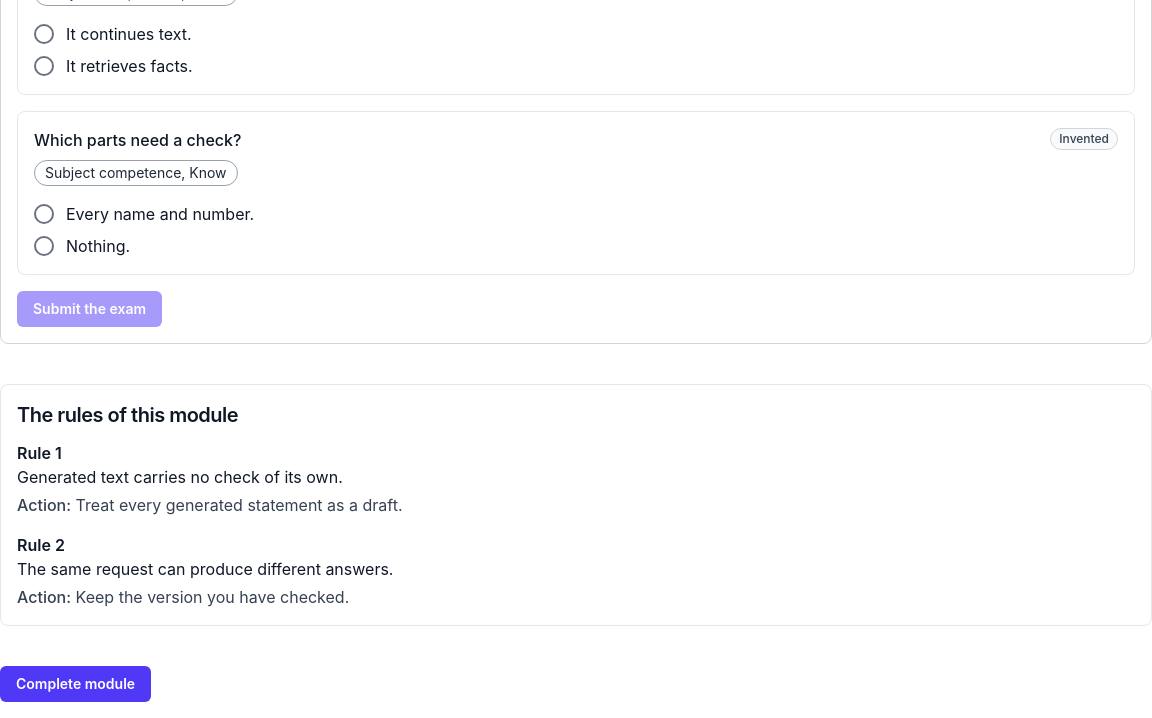
Test: ModuleStation completion › without a companion formats station, the format note carries no link
(page scrolled)
Step 1. Click the button "Complete module" → (76, 684), box x1=0 y1=666 x2=151 y2=702
(page scrolled)
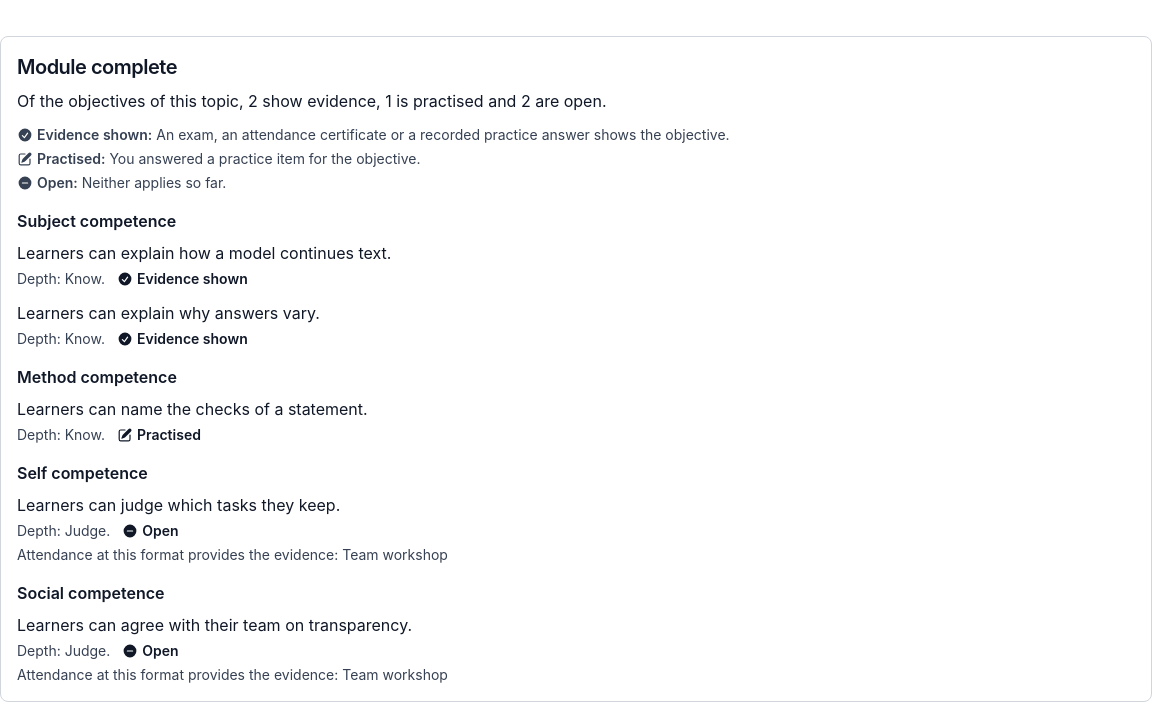
Check: the 4th list item is shown, box x1=17 y1=495 x2=448 y2=563
Check: the 1st element showing "Open" is shown, box x1=122 y1=521 x2=179 y2=541
Check: the 4th list item shows "Team workshop", box x1=342 y1=546 x2=448 y2=563
